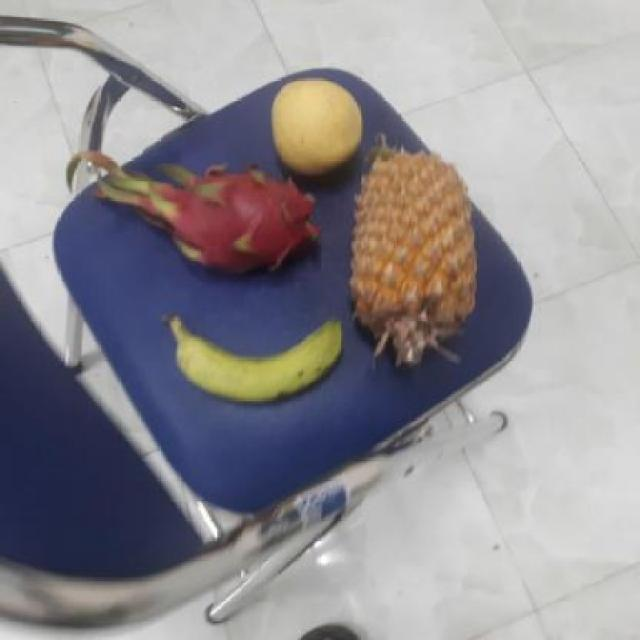banana: (172, 314, 339, 404)
dragon fruit: (140, 166, 314, 280)
pear: (267, 78, 364, 174)
sugar apple: (343, 147, 472, 361)
